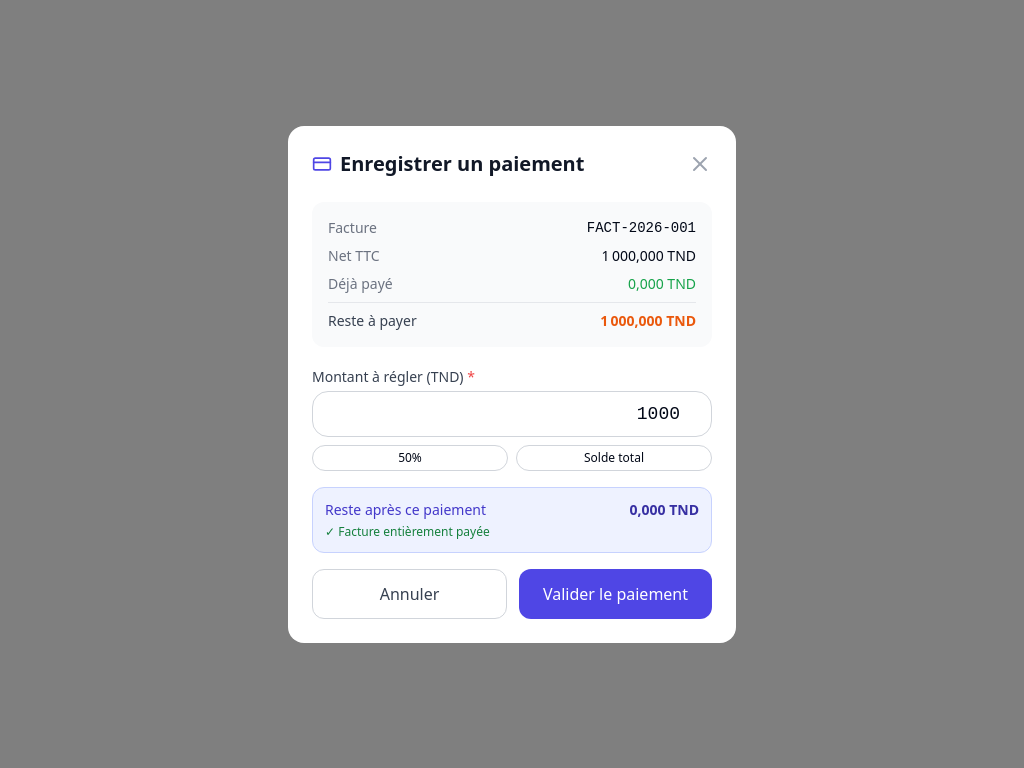
Test case: PaymentModal › should set 50% when 50% button is clicked
Click the button "50%" at (410, 458), box [312,444,508,470]
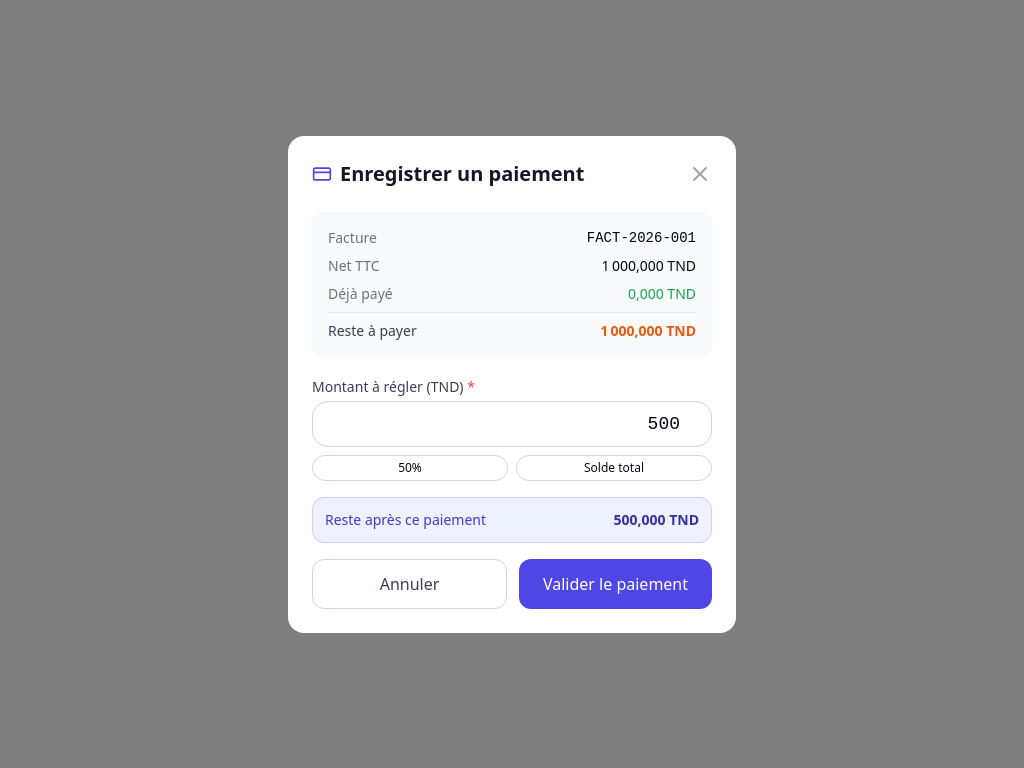
Result: the number field holds "500" at [312,400,712,446]
